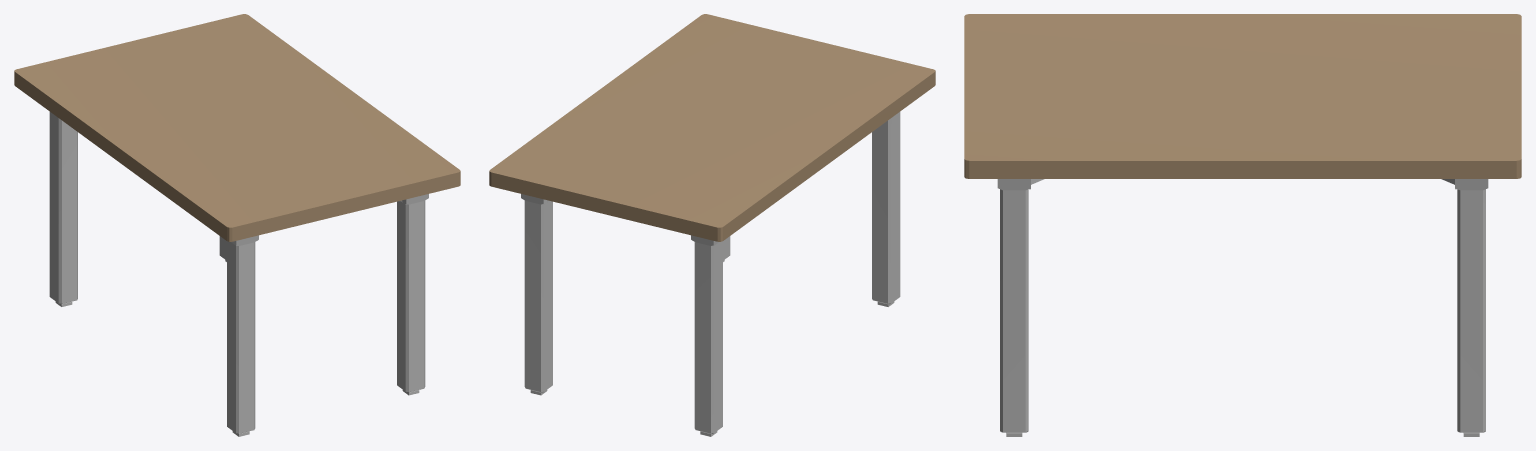
The model's file is Table.glb.
3 renders of one model, left to right at view 1: azimuth 30°, elevation 25°; view 2: azimuth 150°, elevation 25°; view 3: azimuth 270°, elevation 25°, orthographic. The views are drawn at different scales.
Parts seen in each view (by area): view 1: Table; view 2: Table; view 3: Table.
Boxes of the visible parts, <box> form: Table: <box>14,14,460,436</box>; Table: <box>489,14,935,436</box>; Table: <box>964,14,1521,436</box>.
Size of the model in its own units: 1.74 by 1.62 by 2.79.
Materials: 1 (1 with a texture image).
